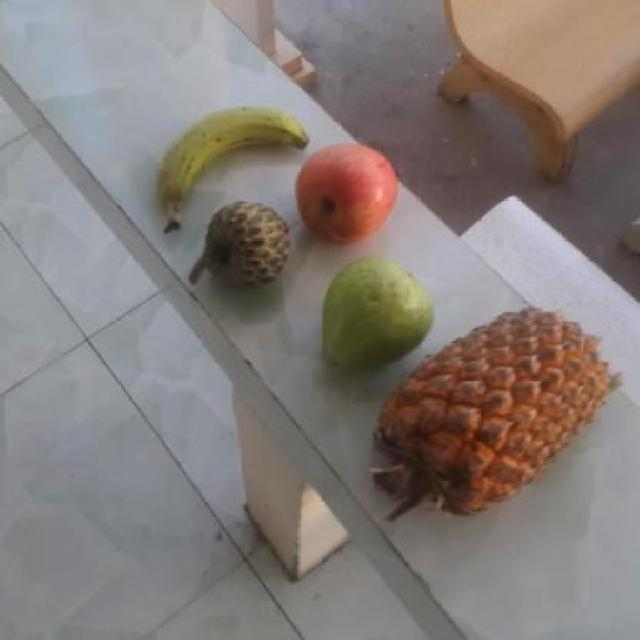apple: (294, 141, 401, 242)
banana: (152, 101, 319, 234)
guava: (318, 258, 442, 374)
pineapple: (372, 310, 619, 515)
sugar apple: (199, 199, 296, 293)
